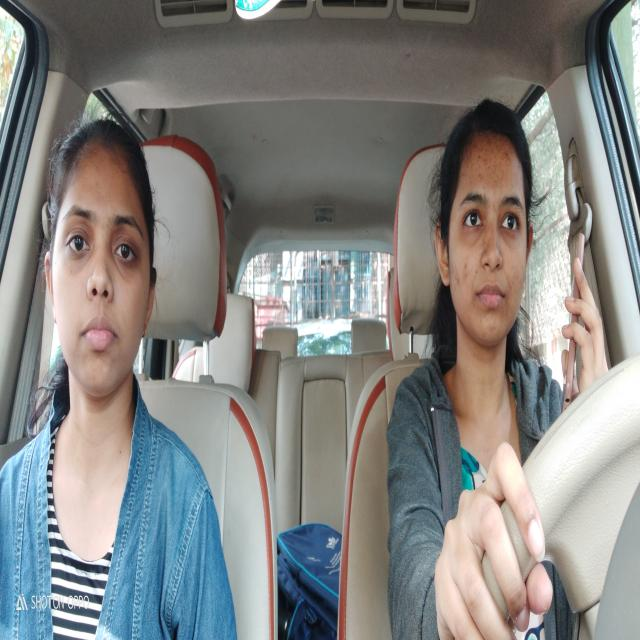mobile: (561, 230, 585, 408)
person: (42, 110, 160, 401), (432, 105, 540, 350)
